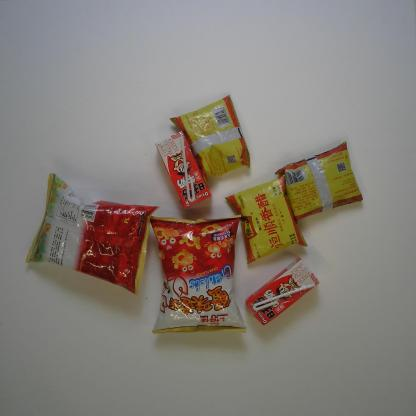Milk: (245, 257, 320, 327), (155, 130, 212, 209)
Puffed Food: (24, 173, 160, 296), (148, 214, 247, 336)
Seasoner: (275, 141, 363, 225), (169, 94, 251, 184), (225, 174, 307, 264)
